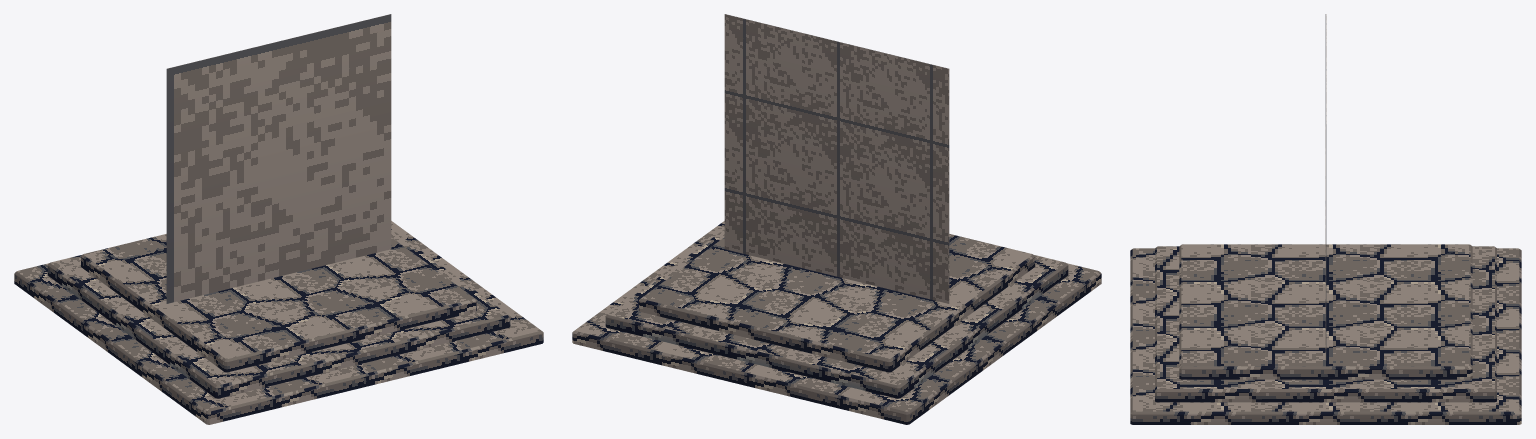
Rendered from tmpl.dais__large.glb.
The picture shows the model from 3 angles, left to right: view 1: azimuth 30°, elevation 25°; view 2: azimuth 150°, elevation 25°; view 3: azimuth 270°, elevation 25°; orthographic projection.
Visible parts, largest first — view 1: kit_dais, kit_inlay; view 2: kit_dais, kit_inlay; view 3: kit_dais, kit_inlay.
Part boxes in pixels (x1,y1,x2,y2): kit_dais: [14, 221, 543, 424]; kit_inlay: [166, 14, 391, 303]; kit_dais: [572, 221, 1101, 424]; kit_inlay: [724, 14, 949, 303]; kit_dais: [1130, 244, 1521, 424]; kit_inlay: [1325, 14, 1326, 360].
Bounding box in the file's own units: 7.2 × 5.55 × 7.2.
2 materials, 2 textured.
